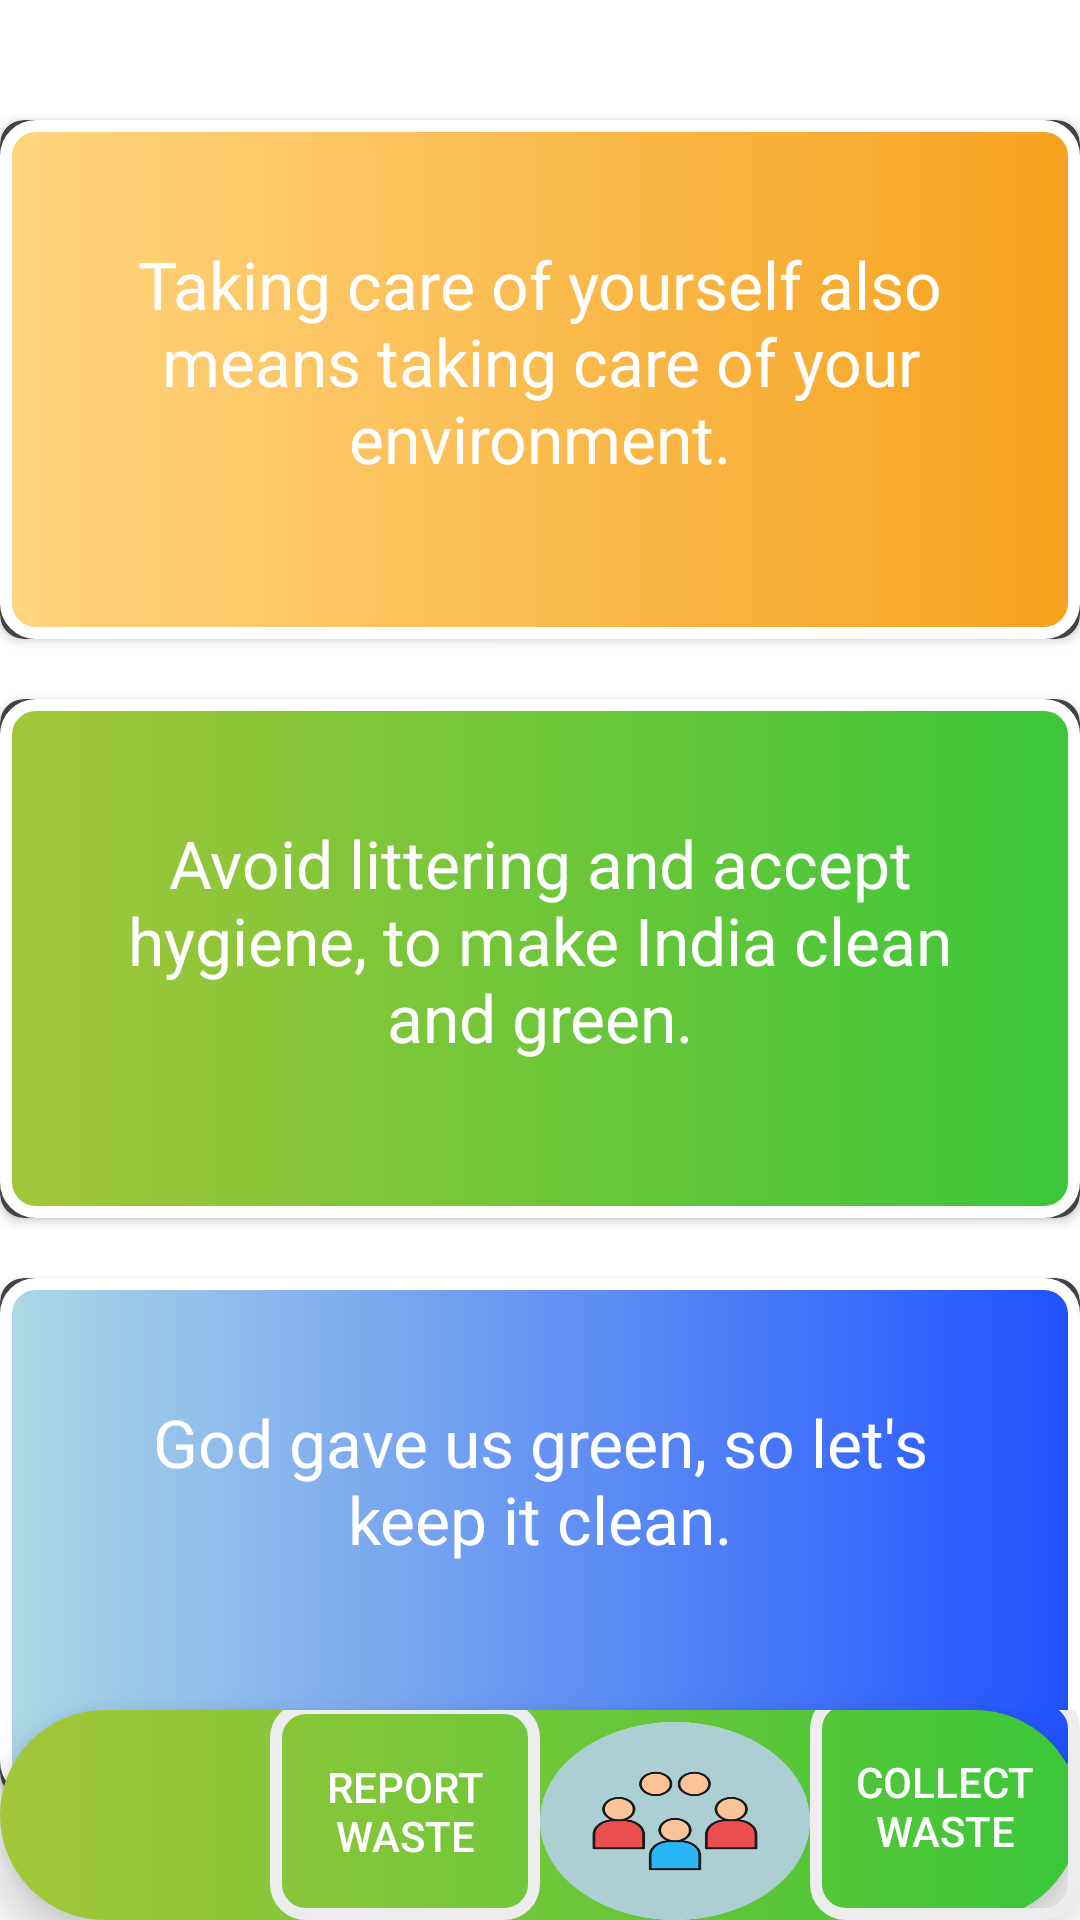

Icon click points for this 1080 x 1920 phone screenshot, format [x,y]:
fam: [675,1821]
